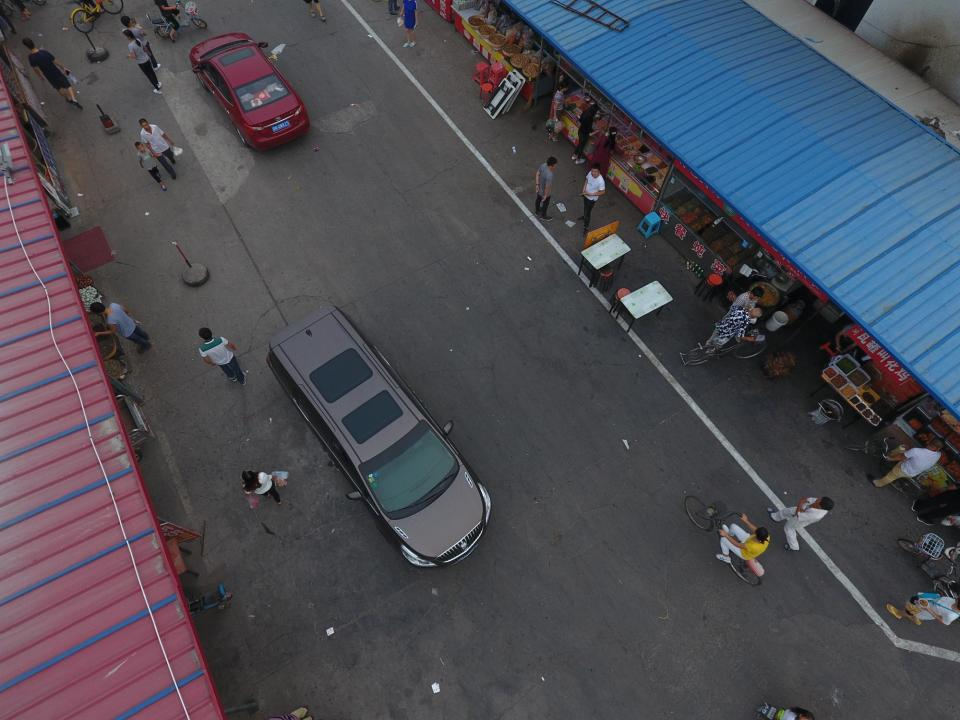car: (188, 31, 311, 151)
van: (265, 308, 492, 570)
